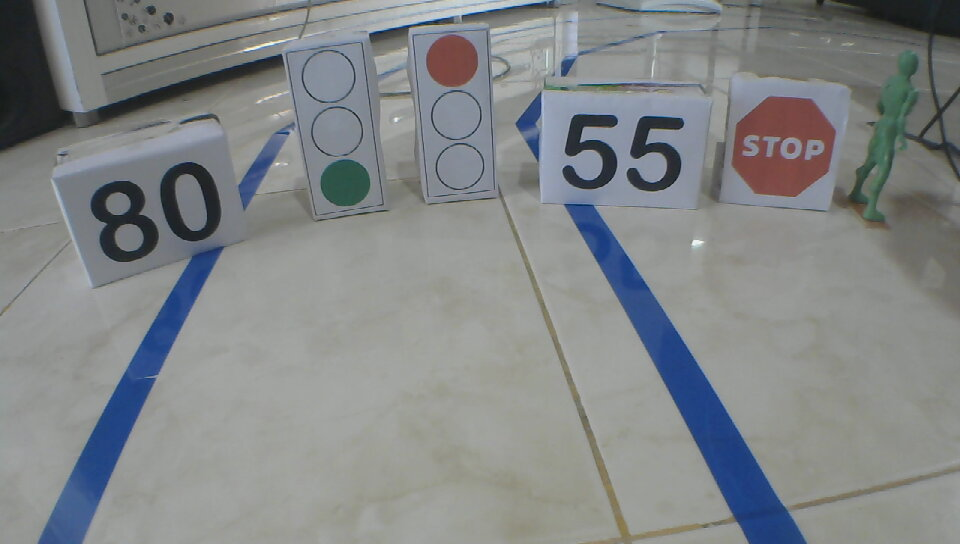Green Light: (298, 48, 372, 208)
Person: (851, 51, 924, 227)
Red Light: (424, 34, 487, 194)
Speed 55: (560, 110, 692, 195)
Speed 80: (89, 159, 228, 266)
Stop: (727, 95, 832, 197)
